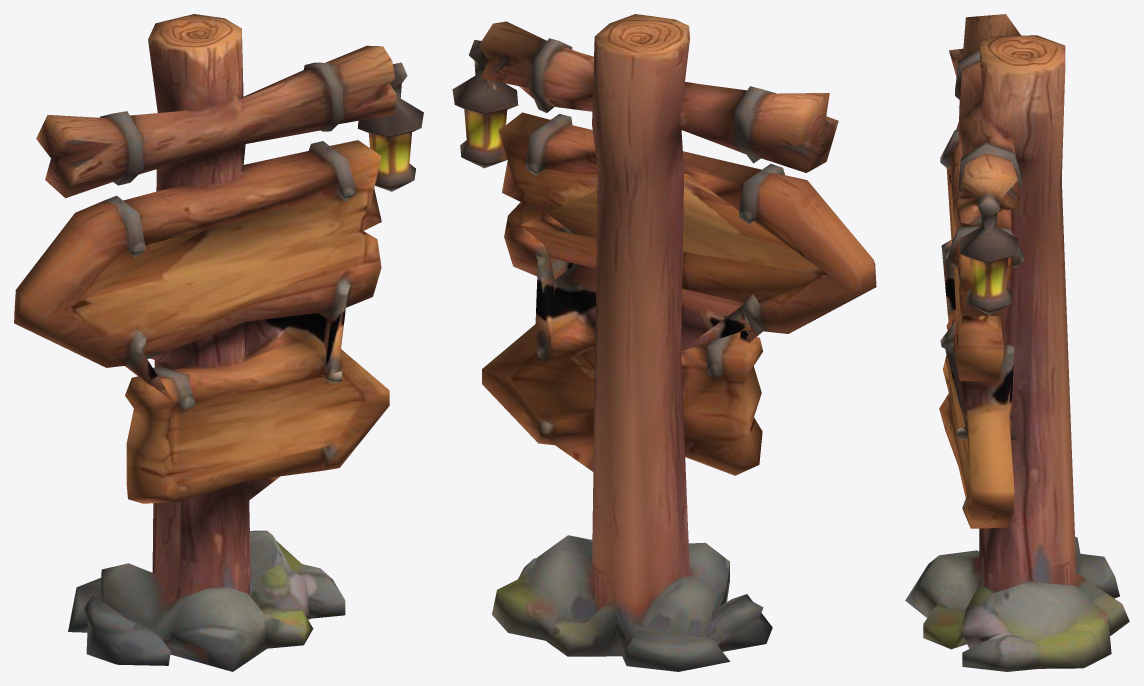
3 views of the same model, side by side, from view 1: azimuth 30°, elevation 25°; view 2: azimuth 150°, elevation 25°; view 3: azimuth 270°, elevation 25° (orthographic). The views are drawn at different scales.
Visible parts, largest first — view 1: tripo_node_e90e473d-21c9-445c-b187-e9ef4b1d8b20; view 2: tripo_node_e90e473d-21c9-445c-b187-e9ef4b1d8b20; view 3: tripo_node_e90e473d-21c9-445c-b187-e9ef4b1d8b20.
Boxes of the visible parts, x1,y1,x2,y2 form: tripo_node_e90e473d-21c9-445c-b187-e9ef4b1d8b20: (14, 14, 423, 671); tripo_node_e90e473d-21c9-445c-b187-e9ef4b1d8b20: (452, 14, 876, 671); tripo_node_e90e473d-21c9-445c-b187-e9ef4b1d8b20: (905, 14, 1129, 671).
Size of the model in its own units: 0.7417 by 1 by 0.362.
1 material, 1 textured.
